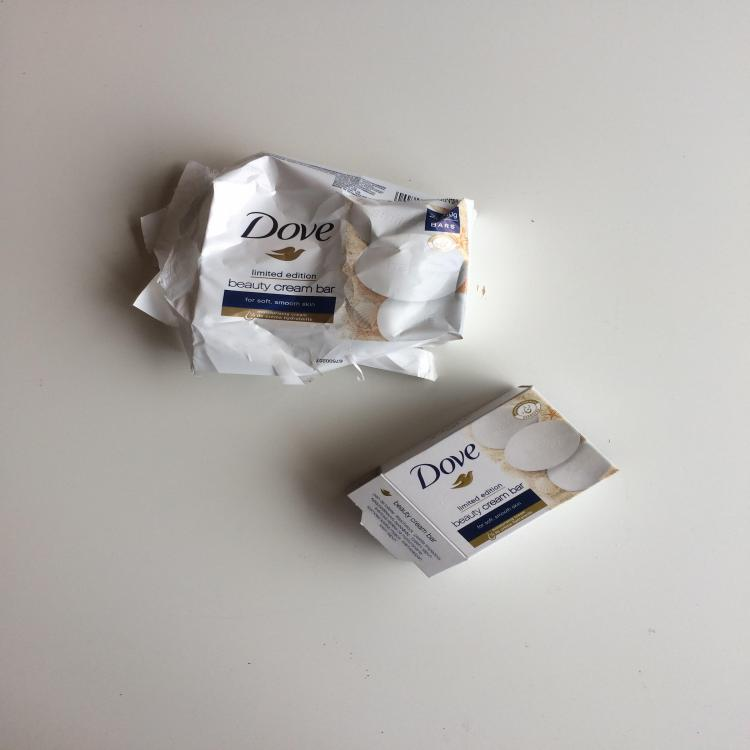Other carton: (345, 386, 620, 578)
Plastic film: (133, 152, 477, 385)
